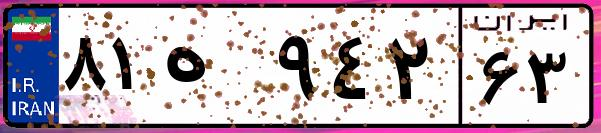1: (110, 28, 158, 98)
2: (385, 28, 445, 110)
3: (525, 38, 570, 115)
4: (330, 28, 385, 110)
6: (475, 38, 525, 113)
8: (57, 26, 110, 100)
9: (270, 28, 330, 110)
ه: (158, 20, 270, 120)
